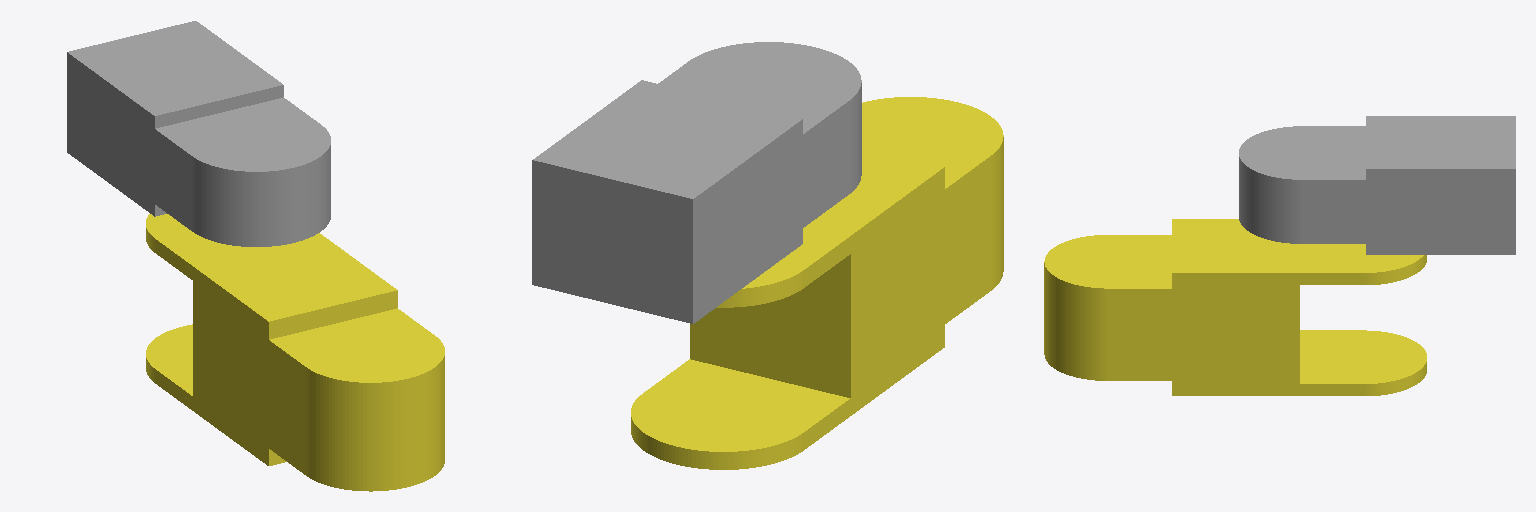
The robot description file, URDF, robot "test_robot":
<?xml version="1.0" ?>
<robot name="test_robot">
	<link name="world"/>
	<joint name="world_joint" type="fixed">
		<parent link="world"/>
		<child link="base_rail_link"/>
		<origin xyz="0.0 0.0 0.0" rpy="0.0 0.0 0.0"/>
		<axis xyz="0 0 1"/>
		<limit effort="100.0" lower="-3.141592653589793" upper="3.141592653589793" velocity="1.0"/>
		<dynamics damping="0.0" friction="0.0"/>
	</joint>
	<link name="base_rail_link">
		<visual>
			<geometry>
				<mesh filename="mesh/base_rail_link.stl"/>
			</geometry>
		</visual>
		<collision>
			<geometry>
				<mesh filename="mesh/base_rail_link.stl"/>
			</geometry>
		</collision>
		<inertial>
			<mass value="1.0"/>
			<inertia ixx="0.0" ixy="0.0" ixz="0.0" iyy="0.0" iyz="0.0" izz="0.0"/>
		</inertial>
	</link>
	<joint name="joint_01" type="prismatic">
		<parent link="base_rail_link"/>
		<child link="link_01"/>
		<origin xyz="0.0 0.0 0.375" rpy="0.0 0.0 0.0"/>
		<axis xyz="0 1 0"/>
		<limit effort="100.0" lower="-3.141592653589793" upper="3.141592653589793" velocity="1.0"/>
		<dynamics damping="0.0" friction="0.0"/>
	</joint>
	<link name="link_01">
		<visual>
			<geometry>
				<mesh filename="mesh/link_01.stl"/>
			</geometry>
		</visual>
		<collision>
			<geometry>
				<mesh filename="mesh/link_01.stl"/>
			</geometry>
		</collision>
		<inertial>
			<mass value="1.0"/>
			<inertia ixx="0.0" ixy="0.0" ixz="0.0" iyy="0.0" iyz="0.0" izz="0.0"/>
		</inertial>
	</link>
	<joint name="joint_02" type="revolute">
		<parent link="link_01"/>
		<child link="link_02"/>
		<origin xyz="0.0 1.0 0.0" rpy="0 0 0"/>
		<axis xyz="0 0 1"/>
		<limit effort="100.0" lower="-3.141592653589793" upper="3.141592653589793" velocity="1.0"/>
		<dynamics damping="0.0" friction="0.0"/>
	</joint>
	<link name="link_02">
		<visual>
			<geometry>
				<mesh filename="mesh/link_02.stl"/>
			</geometry>
		</visual>
		<collision>
			<geometry>
				<mesh filename="mesh/link_02.stl"/>
			</geometry>
		</collision>
		<inertial>
			<mass value="1.0"/>
			<inertia ixx="0.0" ixy="0.0" ixz="0.0" iyy="0.0" iyz="0.0" izz="0.0"/>
		</inertial>
	</link>
	<joint name="joint_03" type="revolute">
		<parent link="link_02"/>
		<child link="link_03"/>
		<origin xyz="0.0 1.41 0.0" rpy="0 0 0"/>
		<axis xyz="0 0 1"/>
		<limit effort="100.0" lower="-3.141592653589793" upper="3.141592653589793" velocity="1.0"/>
		<dynamics damping="0.0" friction="0.0"/>
	</joint>
	<link name="link_03">
		<visual>
			<geometry>
				<mesh filename="mesh/link_03.stl"/>
			</geometry>
		</visual>
		<collision>
			<geometry>
				<mesh filename="mesh/link_03.stl"/>
			</geometry>
		</collision>
		<inertial>
			<mass value="1.0"/>
			<inertia ixx="0.0" ixy="0.0" ixz="0.0" iyy="0.0" iyz="0.0" izz="0.0"/>
		</inertial>
	</link>
	<joint name="joint_04" type="revolute">
		<parent link="link_03"/>
		<child link="link_04"/>
		<origin xyz="0.0 1.13 0.0" rpy="0 0 0"/>
		<axis xyz="0 1 0"/>
		<limit effort="100.0" lower="-3.141592653589793" upper="3.141592653589793" velocity="1.0"/>
		<dynamics damping="0.0" friction="0.0"/>
	</joint>
	<link name="link_04">
		<visual>
			<geometry>
				<mesh filename="mesh/link_04.stl"/>
			</geometry>
		</visual>
		<collision>
			<geometry>
				<mesh filename="mesh/link_04.stl"/>
			</geometry>
		</collision>
		<inertial>
			<mass value="1.0"/>
			<inertia ixx="0.0" ixy="0.0" ixz="0.0" iyy="0.0" iyz="0.0" izz="0.0"/>
		</inertial>
	</link>
	<joint name="joint_05" type="revolute">
		<parent link="link_04"/>
		<child link="link_05"/>
		<origin xyz="0.0 0.565257 0.356751" rpy="0.0 0.0 3.141592653589793"/>
		<axis xyz="1 0 0"/>
		<limit effort="100.0" lower="-3.141592653589793" upper="3.141592653589793" velocity="1.0"/>
		<dynamics damping="0.0" friction="0.0"/>
	</joint>
	<link name="link_05">
		<visual>
			<geometry>
				<mesh filename="mesh/link_05.stl"/>
			</geometry>
		</visual>
		<collision>
			<geometry>
				<mesh filename="mesh/link_05.stl"/>
			</geometry>
		</collision>
		<inertial>
			<mass value="1.0"/>
			<inertia ixx="0.0" ixy="0.0" ixz="0.0" iyy="0.0" iyz="0.0" izz="0.0"/>
		</inertial>
	</link>
	<joint name="joint_06" type="revolute">
		<parent link="link_05"/>
		<child link="link_06"/>
		<origin xyz="0.0 0.86 0.39" rpy="0 0 0"/>
		<axis xyz="0 1 0"/>
		<limit effort="100.0" lower="-3.141592653589793" upper="3.141592653589793" velocity="1.0"/>
		<dynamics damping="0.0" friction="0.0"/>
	</joint>
	<link name="link_06">
		<visual>
			<geometry>
				<mesh filename="mesh/link_06.stl"/>
			</geometry>
		</visual>
		<collision>
			<geometry>
				<mesh filename="mesh/link_06.stl"/>
			</geometry>
		</collision>
		<inertial>
			<mass value="1.0"/>
			<inertia ixx="0.0" ixy="0.0" ixz="0.0" iyy="0.0" iyz="0.0" izz="0.0"/>
		</inertial>
	</link>
	<joint name="joint_07" type="revolute">
		<parent link="link_06"/>
		<child link="link_07"/>
		<origin xyz="0.0 1.175 0.0" rpy="0 0 0"/>
		<axis xyz="0 0 1"/>
		<limit effort="100.0" lower="-3.141592653589793" upper="3.141592653589793" velocity="1.0"/>
		<dynamics damping="0.0" friction="0.0"/>
	</joint>
	<link name="link_07">
		<visual>
			<geometry>
				<mesh filename="mesh/link_07.stl"/>
			</geometry>
		</visual>
		<collision>
			<geometry>
				<mesh filename="mesh/link_07.stl"/>
			</geometry>
		</collision>
		<inertial>
			<mass value="1.0"/>
			<inertia ixx="0.0" ixy="0.0" ixz="0.0" iyy="0.0" iyz="0.0" izz="0.0"/>
		</inertial>
	</link>
	<joint name="joint_08" type="revolute">
		<parent link="link_07"/>
		<child link="link_08"/>
		<origin xyz="0.0 0.62 0.0" rpy="0 0 0"/>
		<axis xyz="0 1 0"/>
		<limit effort="100.0" lower="-3.141592653589793" upper="3.141592653589793" velocity="1.0"/>
		<dynamics damping="0.0" friction="0.0"/>
	</joint>
	<link name="link_08">
		<visual>
			<geometry>
				<mesh filename="mesh/link_08.stl"/>
			</geometry>
		</visual>
		<collision>
			<geometry>
				<mesh filename="mesh/link_08.stl"/>
			</geometry>
		</collision>
		<inertial>
			<mass value="1.0"/>
			<inertia ixx="0.0" ixy="0.0" ixz="0.0" iyy="0.0" iyz="0.0" izz="0.0"/>
		</inertial>
	</link>
	<joint name="joint_09" type="revolute">
		<parent link="link_08"/>
		<child link="link_09"/>
		<origin xyz="0.0 0.68 0.2" rpy="-1.5707963267948966 0.0 0.0"/>
		<axis xyz="1 0 0"/>
		<limit effort="100.0" lower="-3.141592653589793" upper="3.141592653589793" velocity="1.0"/>
		<dynamics damping="0.0" friction="0.0"/>
	</joint>
	<link name="link_09">
		<visual>
			<geometry>
				<mesh filename="mesh/link_09.stl"/>
			</geometry>
		</visual>
		<collision>
			<geometry>
				<mesh filename="mesh/link_09.stl"/>
			</geometry>
		</collision>
		<inertial>
			<mass value="1.0"/>
			<inertia ixx="0.0" ixy="0.0" ixz="0.0" iyy="0.0" iyz="0.0" izz="0.0"/>
		</inertial>
	</link>
	<joint name="joint_10" type="revolute">
		<parent link="link_09"/>
		<child link="link_10"/>
		<origin xyz="0.0 0.0 0.65" rpy="0.0 0.0 0.0"/>
		<axis xyz="0 0 1"/>
		<limit effort="100.0" lower="-3.141592653589793" upper="3.141592653589793" velocity="1.0"/>
		<dynamics damping="0.0" friction="0.0"/>
	</joint>
	<link name="link_10">
		<visual>
			<geometry>
				<mesh filename="mesh/link_10.stl"/>
			</geometry>
		</visual>
		<collision>
			<geometry>
				<mesh filename="mesh/link_10.stl"/>
			</geometry>
		</collision>
		<inertial>
			<mass value="1.0"/>
			<inertia ixx="0.0" ixy="0.0" ixz="0.0" iyy="0.0" iyz="0.0" izz="0.0"/>
		</inertial>
	</link>
</robot>

--- Facts derived from the render (not from the file) ---
The picture shows the robot from 3 angles, left to right: view 1: azimuth 30°, elevation 25°; view 2: azimuth 150°, elevation 25°; view 3: azimuth 270°, elevation 25°; orthographic projection.
Robot: test_robot — 12 links, 11 joints (9 revolute, 1 prismatic, 1 fixed); root link world; default pose: every joint at zero.
Links seen in each view (by area): view 1: link_02, link_06; view 2: link_02, link_06; view 3: link_02, link_06.
Boxes of the visible links, bbox=[...] form: link_02: bbox=[146, 214, 444, 491]; link_06: bbox=[67, 21, 330, 246]; link_02: bbox=[631, 97, 1003, 469]; link_06: bbox=[532, 42, 861, 323]; link_02: bbox=[1044, 219, 1426, 395]; link_06: bbox=[1239, 116, 1515, 254].
Bounding box of the posed robot: 0.7 × 2.6 × 1.38 m (x, y, z).
2 mesh visuals loaded from 11 distinct referenced files (2 binary STL); not drawn: 9 (reference not matched to a file when rendering).